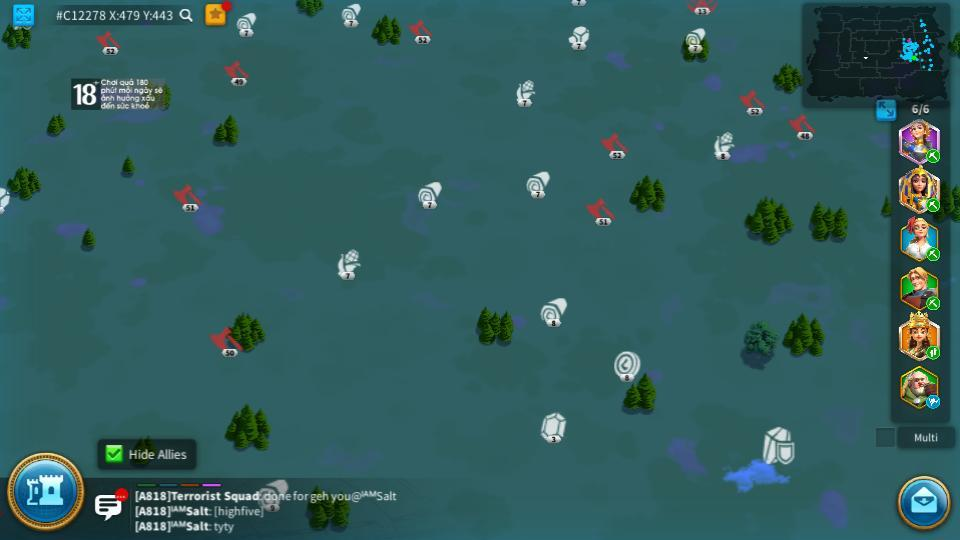gem-z-out: (540, 412, 566, 439)
march_farming: (925, 197, 941, 212), (925, 297, 942, 310), (925, 149, 941, 162), (925, 249, 941, 261)
march_idle: (925, 396, 942, 408)
march_marching: (925, 347, 941, 359)
